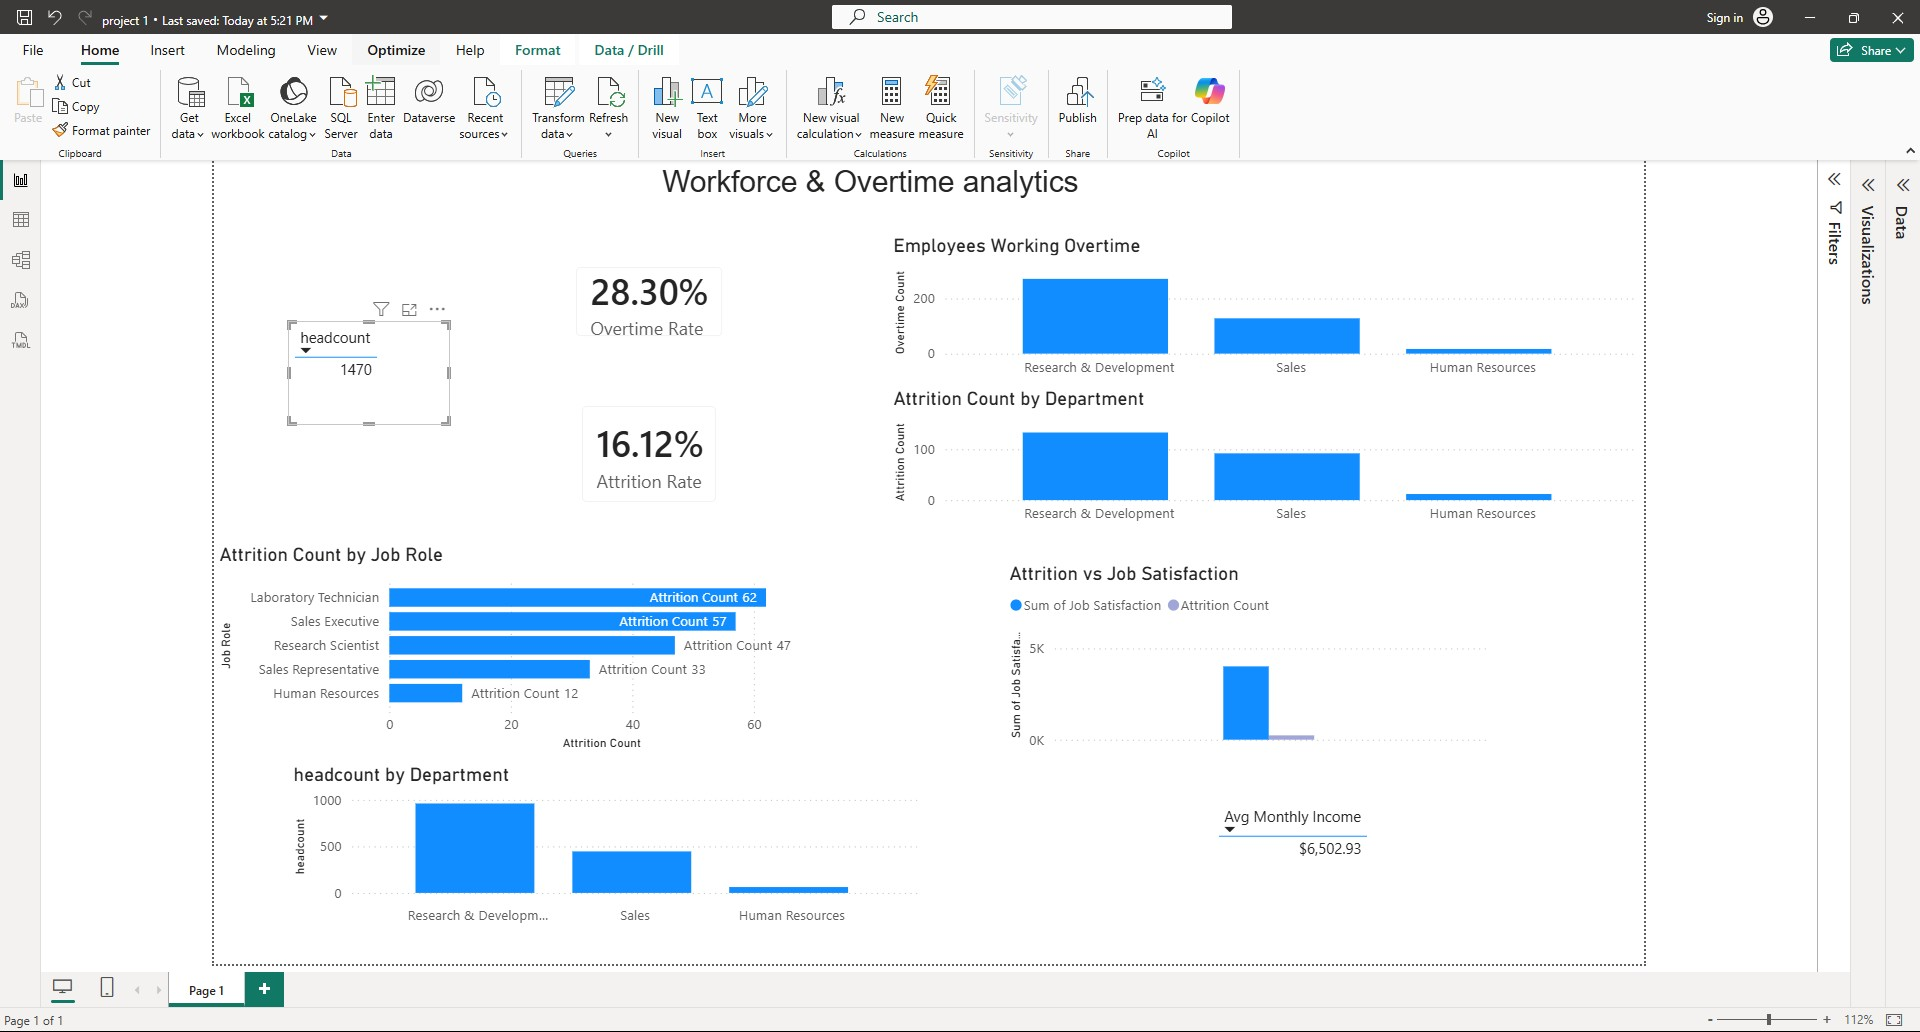

This screenshot's page, from the dashboard's own definition file:
{"tool":"powerbi","page":{"name":"Page 1","canvas":[1280,720],"ordinal":0},"visuals":[{"type":"textbox","box":[242.2,0,699.3,66.1],"z":0},{"type":"tableEx","fields":{"Values":["Table1.headcount"]},"box":[66.1,144,144.9,93.4],"z":1000},{"type":"cardVisual","fields":{"Data":["Table1.Attrition Rate"]},"box":[312.2,203.3,154.7,120.6],"z":2000},{"type":"cardVisual","fields":{"Data":["Table1.Overtime Rate"]},"box":[307.4,78.8,165.3,96.3],"z":3000},{"type":"tableEx","fields":{"Values":["Table1.Avg Monthly Income"]},"box":[893.9,572.9,207.2,109.9],"z":4000},{"type":"clusteredColumnChart","fields":{"Category":["Table1.Department"],"Y":["Table1.Attrition Count"]},"box":[604,203.3,675,131.3],"z":5000},{"type":"clusteredColumnChart","title":"Employees Working Overtime","fields":{"Category":["Table1.Department"],"Y":["Table1.Overtime Count"]},"box":[604,66.1,675,137.1],"z":6000},{"type":"clusteredColumnChart","fields":{"Category":["Table1.Department"],"Y":["Table1.headcount"]},"box":[66.1,539.8,568.7,151.3],"z":7000},{"type":"clusteredBarChart","fields":{"Category":["Table1.Job Role"],"Y":["Table1.Attrition Count"]},"box":[0,343.3,549.9,189.9],"z":8000},{"type":"clusteredColumnChart","title":"Attrition vs Job Satisfaction","fields":{"Y":["Sum(Table1.Job Satisfaction)","Table1.Attrition Count"]},"box":[707.1,359.9,437.7,173.1],"z":9000}]}

Visuals, with their boxes on the page's 1280x720 design canvas (x1, y1, x2, y2). These are canvas units, not pixel positions in the 1920x1032 screenshot, which may show the page scaled, cropped or inside an application window:
textbox: l=242, t=0, r=942, b=66
tableEx - Table1.headcount: l=66, t=144, r=211, b=237
cardVisual - Table1.Attrition Rate: l=312, t=203, r=467, b=324
cardVisual - Table1.Overtime Rate: l=307, t=79, r=473, b=175
tableEx - Table1.Avg Monthly Income: l=894, t=573, r=1101, b=683
clusteredColumnChart - Table1.Department x Table1.Attrition Count: l=604, t=203, r=1279, b=335
"Employees Working Overtime" clusteredColumnChart: l=604, t=66, r=1279, b=203
clusteredColumnChart - Table1.Department x Table1.headcount: l=66, t=540, r=635, b=691
clusteredBarChart - Table1.Job Role x Table1.Attrition Count: l=0, t=343, r=550, b=533
"Attrition vs Job Satisfaction" clusteredColumnChart: l=707, t=360, r=1145, b=533
